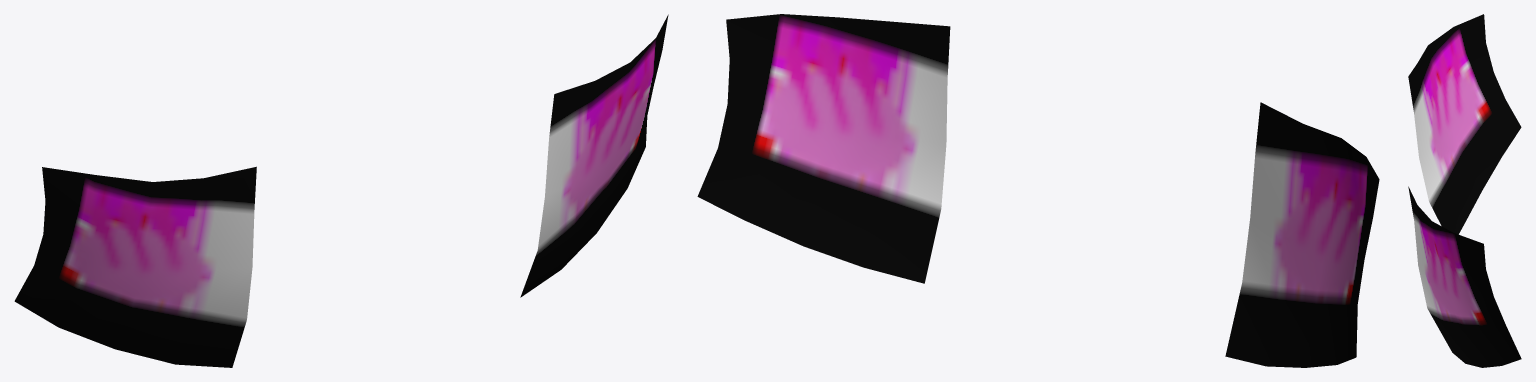
The picture shows the model from 3 angles, left to right: view 1: azimuth 30°, elevation 25°; view 2: azimuth 150°, elevation 25°; view 3: azimuth 270°, elevation 25°; orthographic projection. The views are drawn at different scales.
Parts seen in each view (by area): view 1: polySurface9; view 2: polySurface9; view 3: polySurface9.
Part boxes in pixels (bbox=[...]): polySurface9: bbox=[14, 14, 668, 367]; polySurface9: bbox=[697, 14, 1379, 367]; polySurface9: bbox=[1408, 14, 1521, 367].
Size of the model in its own units: 0.587 by 0.2019 by 0.1214.
Materials: 1 (1 with a texture image).
